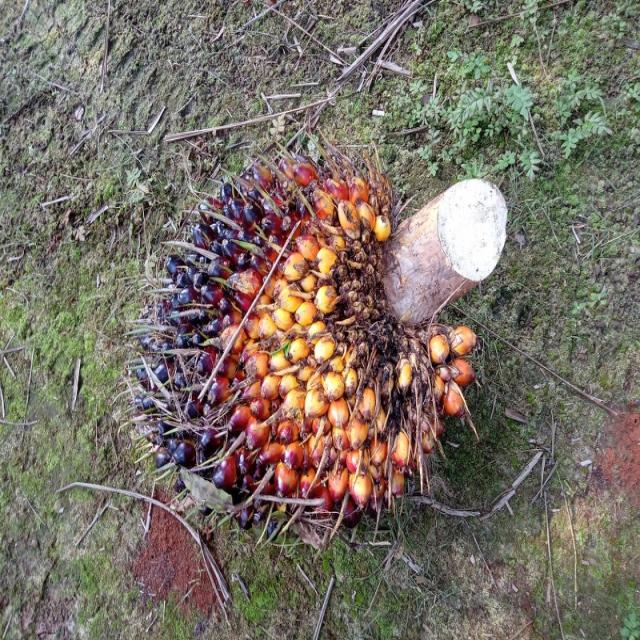fraksi 00: (109, 65, 495, 589)
